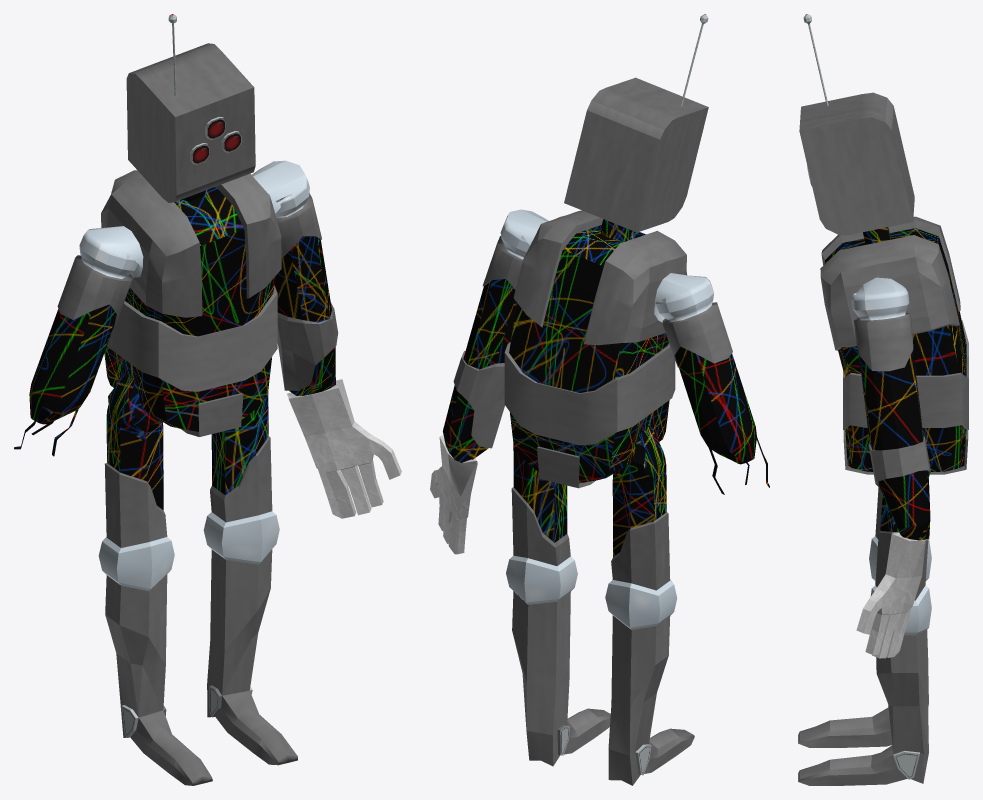
File: RobotIdle6.obj
3 renders of one model, left to right at view 1: azimuth 30°, elevation 25°; view 2: azimuth 150°, elevation 25°; view 3: azimuth 270°, elevation 25°, orthographic. The views are drawn at different scales.
Parts seen in each view (by area): view 1: Robot; view 2: Robot; view 3: Robot.
Boxes of the visible parts, box(x1,y1,x2,y2) form: Robot: box(14, 14, 401, 785); Robot: box(430, 14, 769, 785); Robot: box(798, 14, 968, 785).
Bounding box in the file's own units: 7.83 × 15.52 × 3.36.
